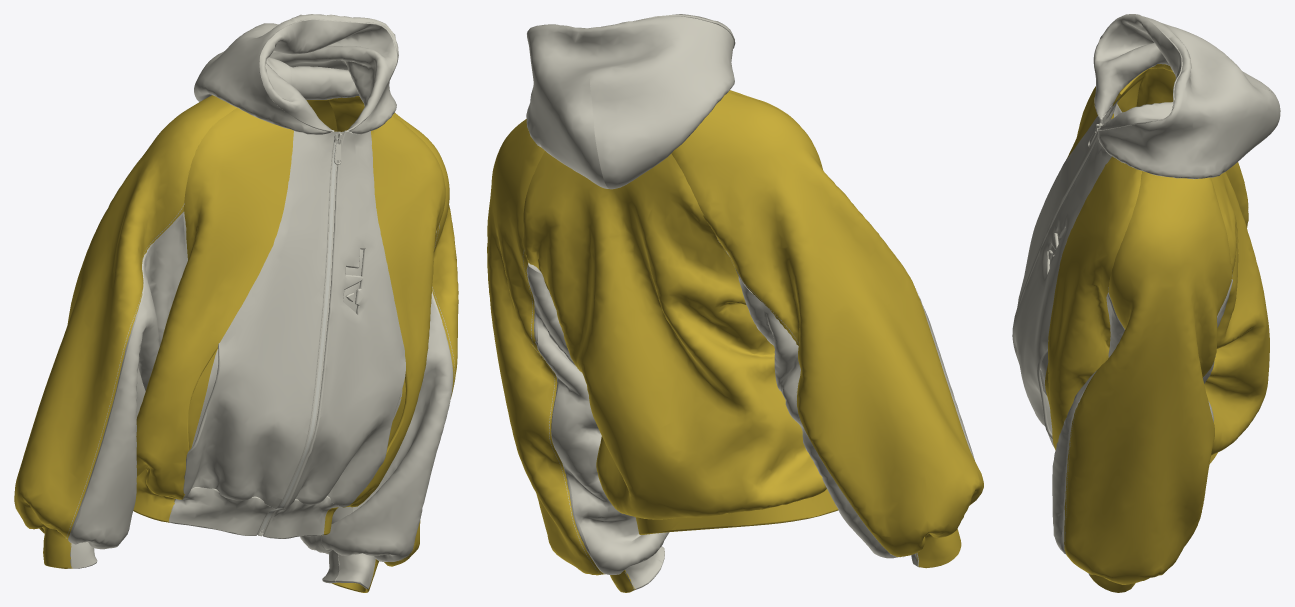
Rendered from Jakna4.glb.
3 views of the same model, side by side, from view 1: azimuth 30°, elevation 25°; view 2: azimuth 150°, elevation 25°; view 3: azimuth 270°, elevation 25° (orthographic). The views are drawn at different scales.
Parts seen in each view (by area): view 1: Default; view 2: Default; view 3: Default.
Part boxes in pixels (x1,y1,x2,y2): Default: (14, 14, 458, 592); Default: (487, 14, 983, 592); Default: (1012, 14, 1280, 592).
Bounding box in the file's own units: 1.28 × 1.58 × 0.7073.
